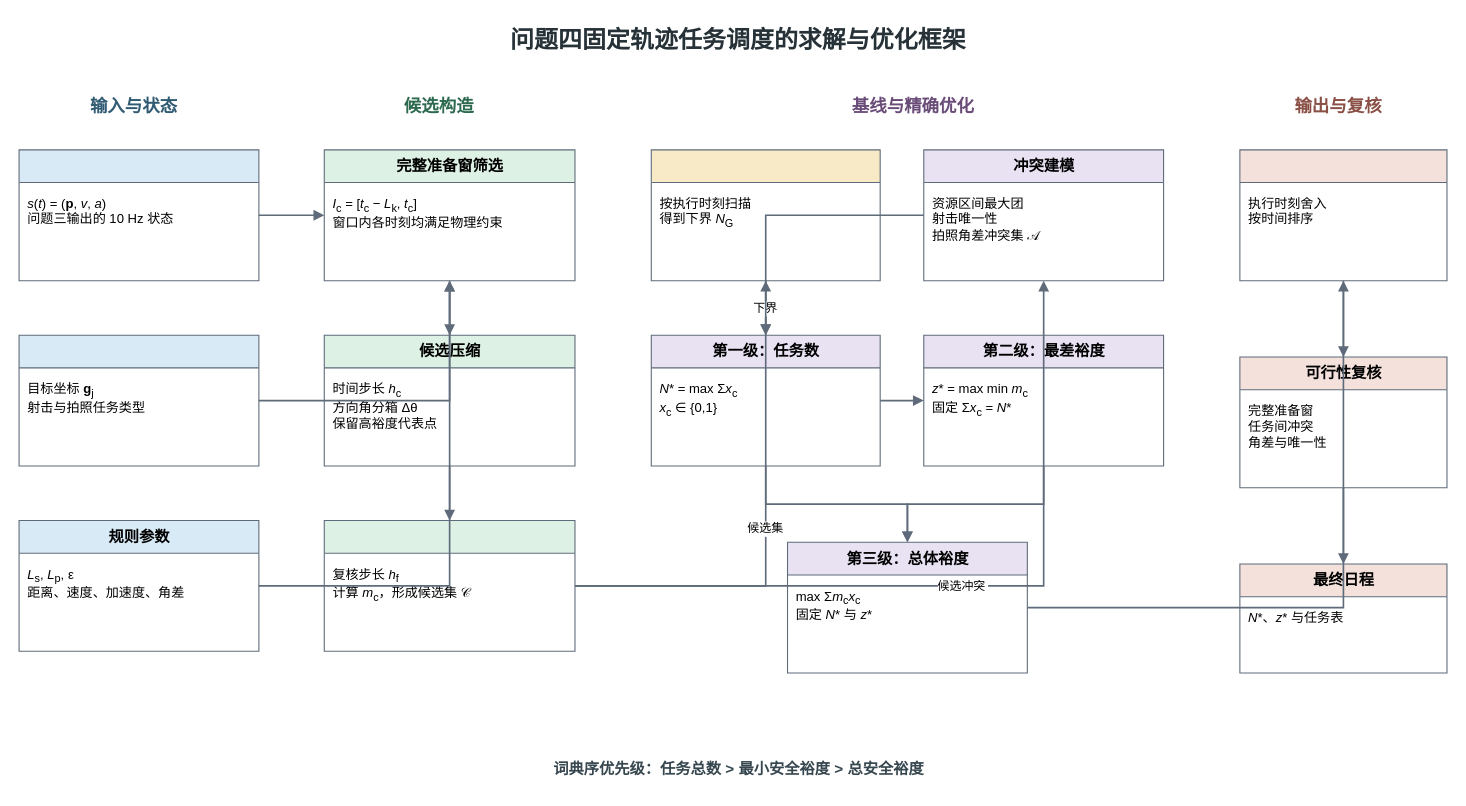
This 1466x806 diagram has some shape labels left out. Here are the shapes that lost their labels. From the top down, the box of each, then its label:
(18, 149, 259, 281): 轨迹状态
(650, 149, 880, 281): 贪心基线
(1239, 149, 1447, 281): 时刻输出
(18, 334, 259, 466): 任务对象
(323, 519, 575, 651): 细网格复核
